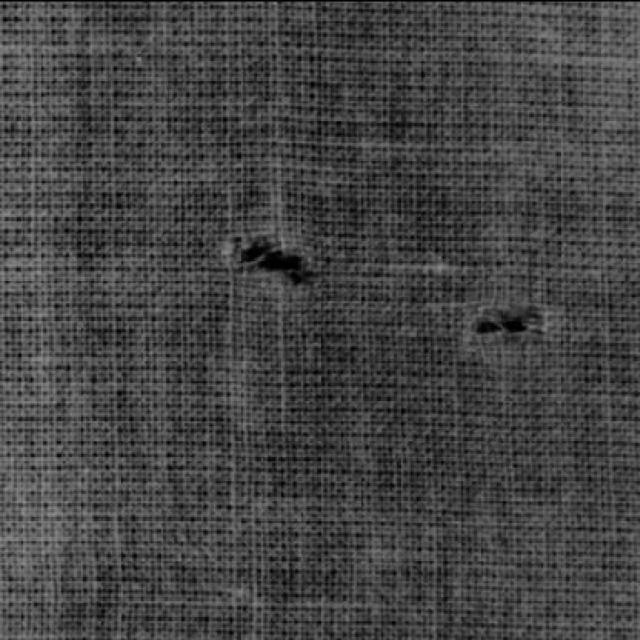seam: (423, 270, 569, 372), (208, 211, 348, 315)
